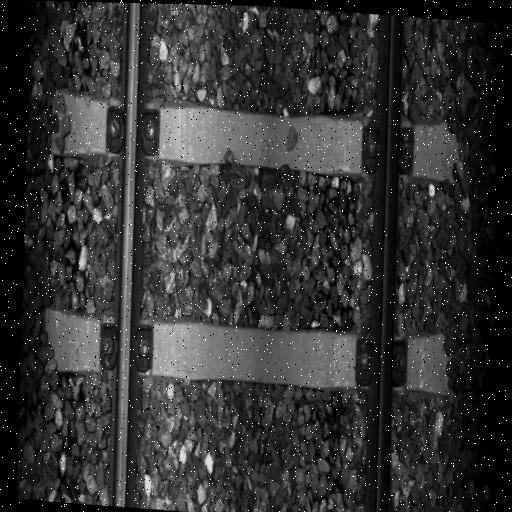sleeper: (47, 84, 465, 198), (41, 300, 463, 412)
